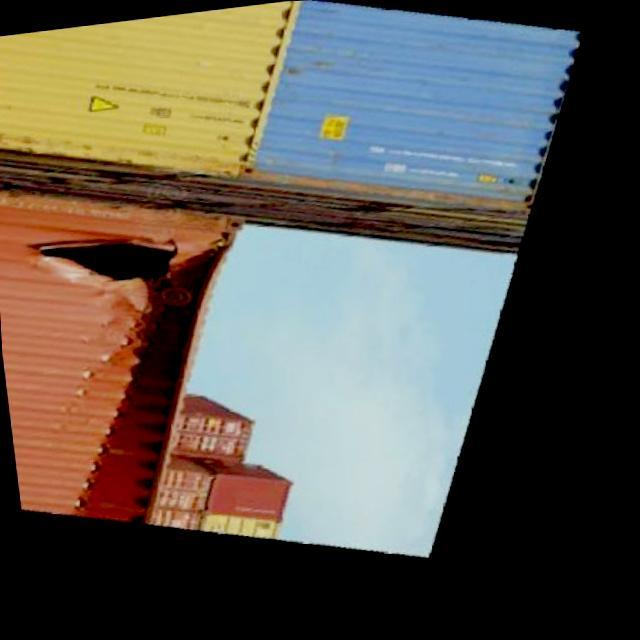hole: (14, 195, 213, 332)
